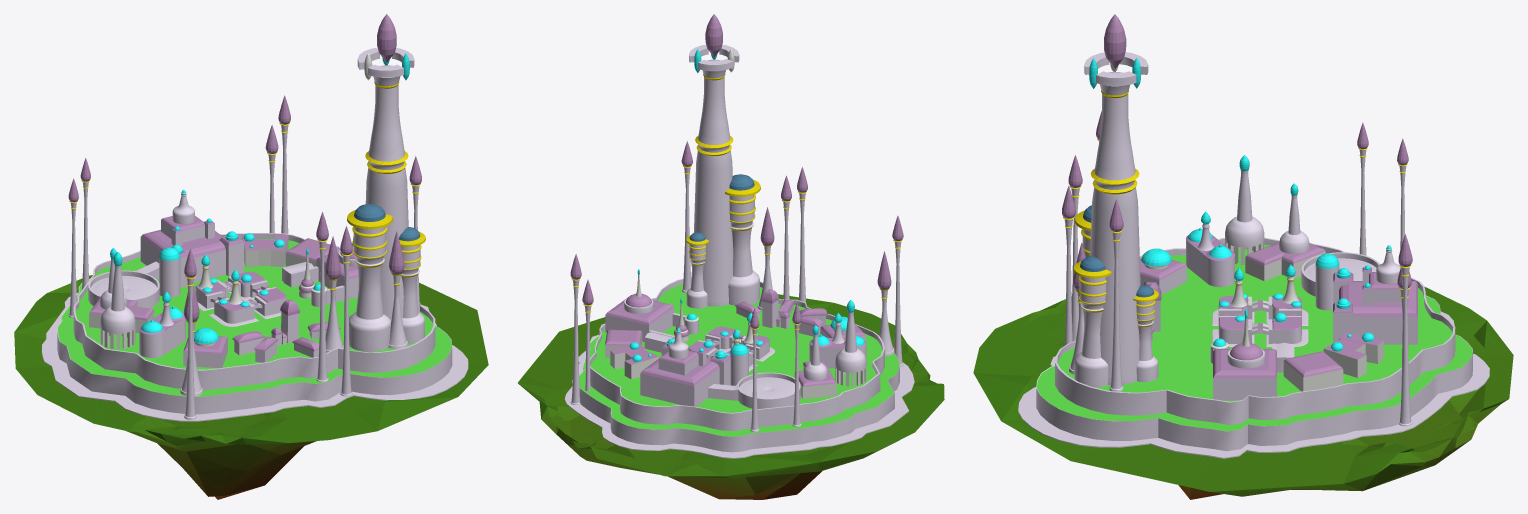
File: castle.glb
3 views of the same model, side by side, from view 1: azimuth 30°, elevation 25°; view 2: azimuth 150°, elevation 25°; view 3: azimuth 270°, elevation 25° (orthographic). The views are drawn at different scales.
Visible parts, largest first — view 1: Cylinder.038, Landscape; view 2: Cylinder.038, Landscape; view 3: Cylinder.038, Landscape.
Boxes of the visible parts, x1,y1,x2,y2 form: Cylinder.038: (41, 14, 468, 421); Landscape: (14, 275, 488, 499); Cylinder.038: (564, 14, 914, 458); Landscape: (518, 294, 944, 499); Cylinder.038: (1018, 14, 1489, 458); Landscape: (973, 287, 1513, 499).
Size of the model in its own units: 17.1 by 18.73 by 16.89.
Materials: 8 (1 with a texture image).
